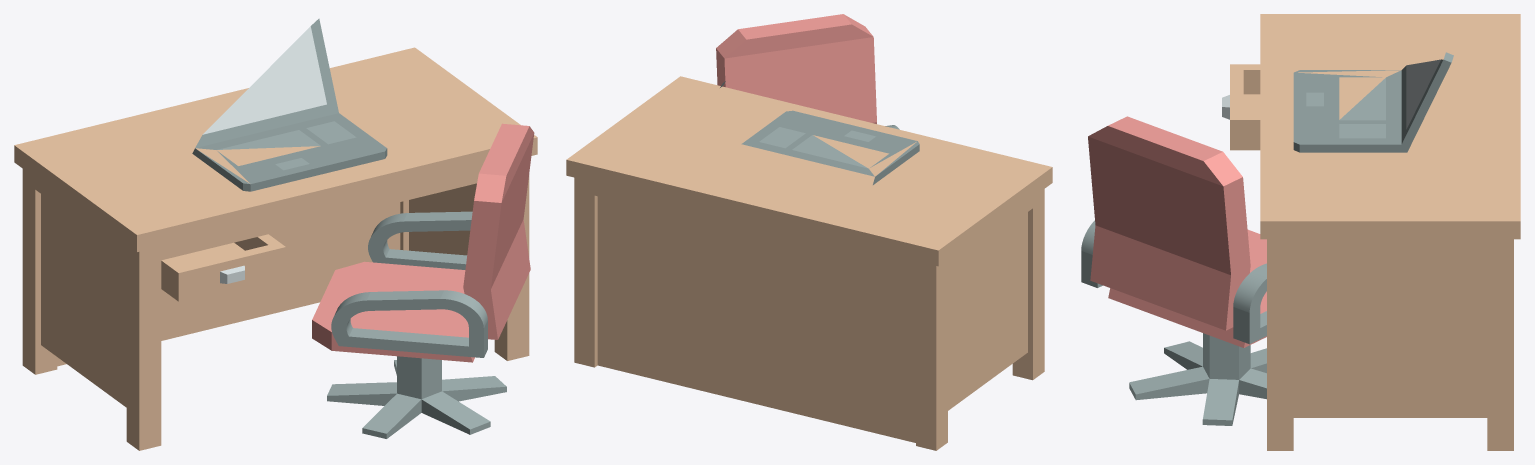
File: Comdeskbreak.gltf
The picture shows the model from 3 angles, left to right: view 1: azimuth 30°, elevation 25°; view 2: azimuth 150°, elevation 25°; view 3: azimuth 270°, elevation 25°; orthographic projection. The views are drawn at different scales.
Visible parts, largest first — view 1: chair, laptop(Clone).001; view 2: chair, laptop(Clone).001; view 3: chair, laptop(Clone).001.
Boxes of the visible parts, <box> form: chair: <box>14,47,537,450</box>; laptop(Clone).001: <box>192,18,387,191</box>; chair: <box>566,14,1052,450</box>; laptop(Clone).001: <box>720,81,919,184</box>; chair: <box>1081,14,1520,450</box>; laptop(Clone).001: <box>1293,52,1453,152</box>.
Bounding box in the file's own units: 0.7345 × 0.5488 × 0.6585.
